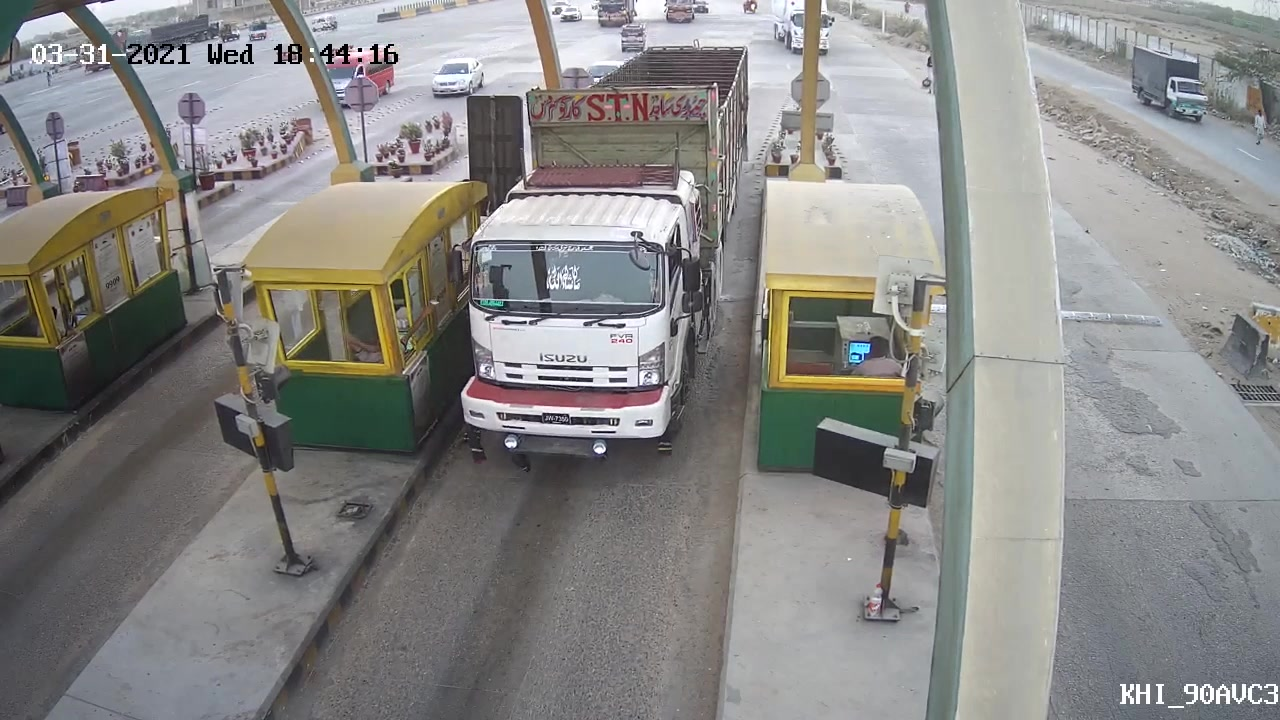F5: (439, 41, 748, 465)
